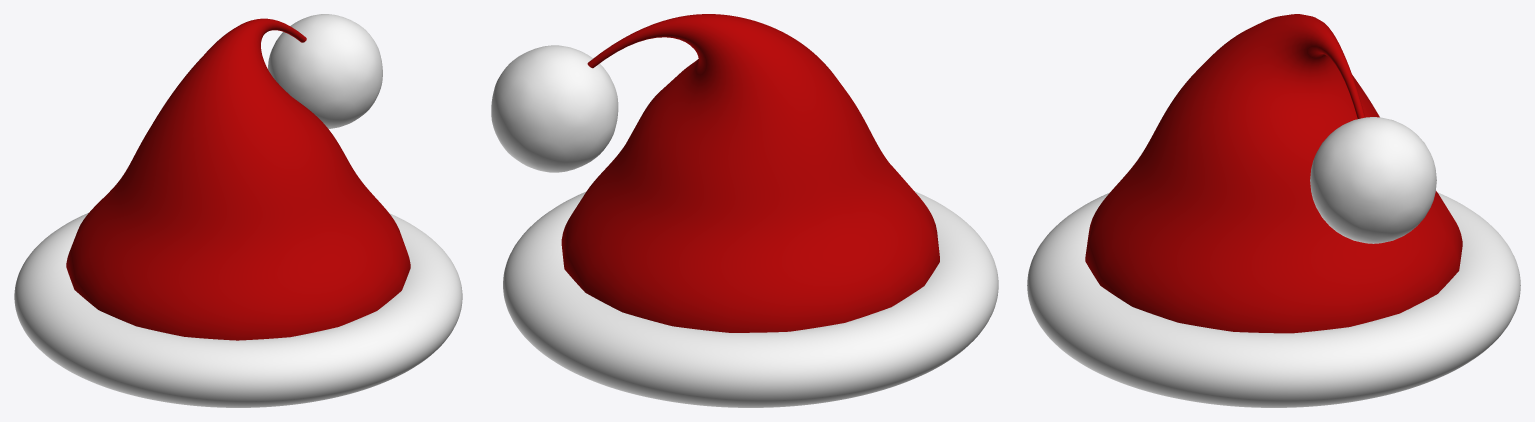
File: santa_cap_simple.fbx
3 renders of one model, left to right at view 1: azimuth 30°, elevation 25°; view 2: azimuth 150°, elevation 25°; view 3: azimuth 270°, elevation 25°, orthographic. The views are drawn at different scales.
Parts seen in each view (by area): view 1: Santa Hat; view 2: Santa Hat; view 3: Santa Hat.
Part boxes in pixels (<box>): Santa Hat: <box>14,14,462,407</box>; Santa Hat: <box>491,14,998,407</box>; Santa Hat: <box>1027,14,1520,407</box>.
Size of the model in its own units: 233 by 161 by 233.
